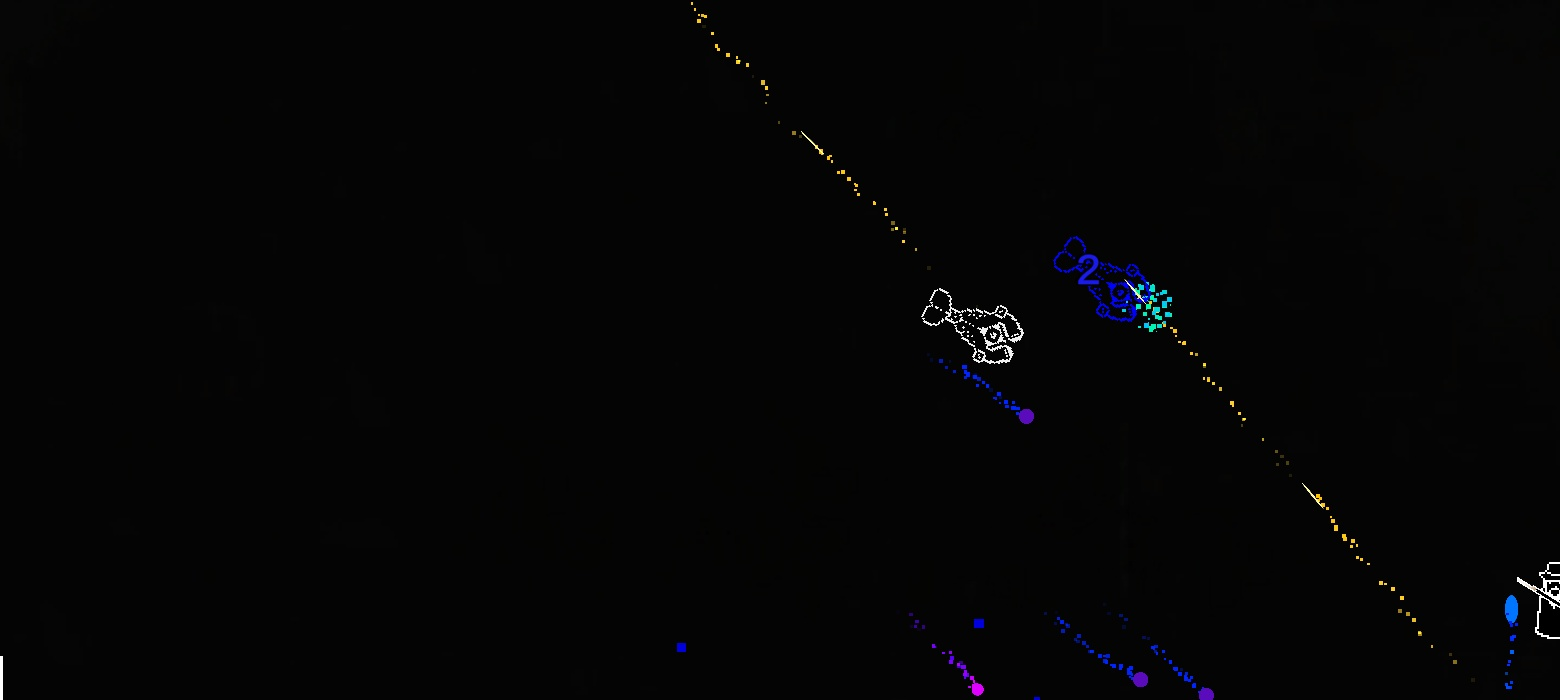enemy: (1053, 236, 1151, 323), (921, 288, 1024, 365)
